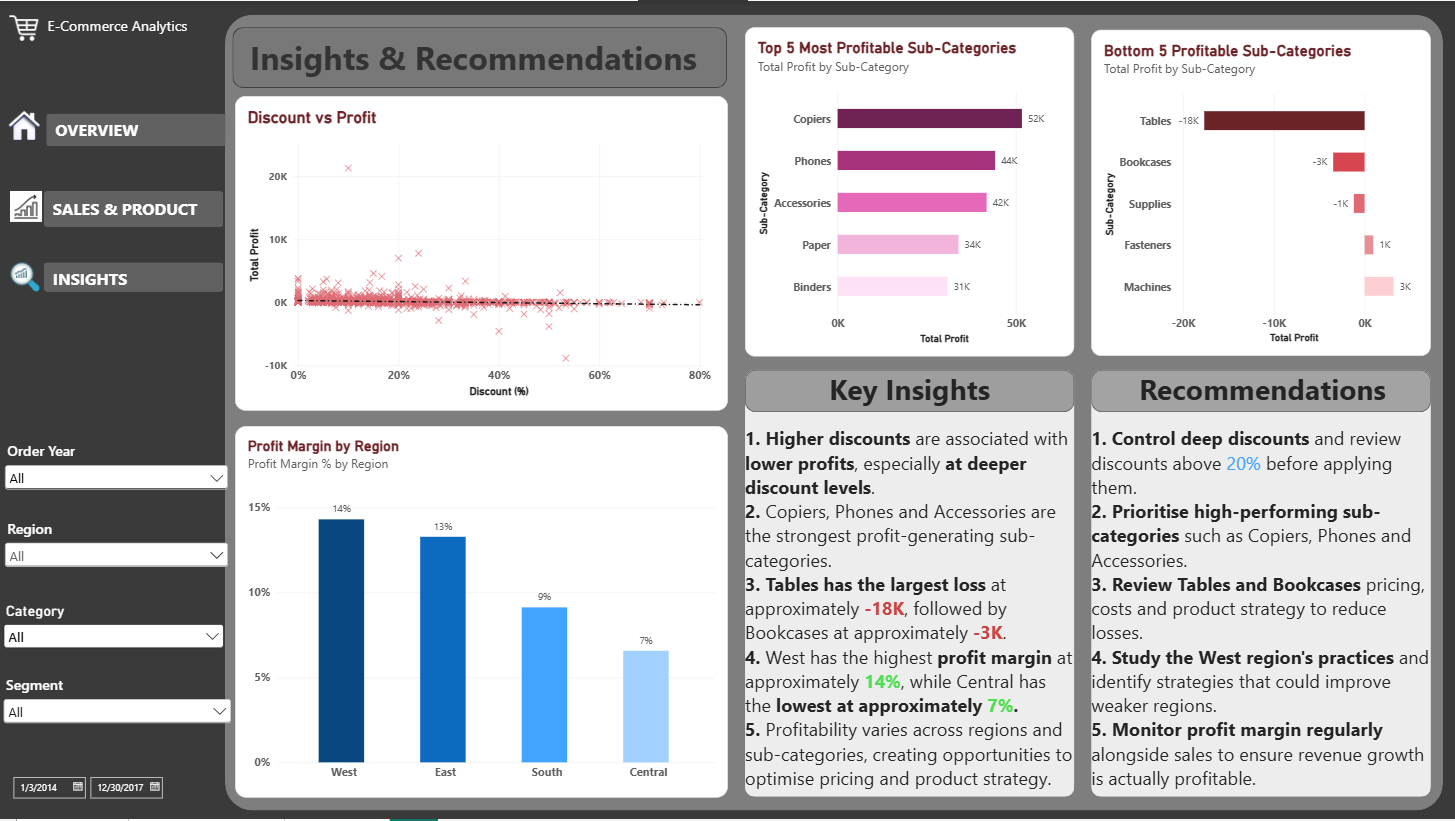

This screenshot's page, from the dashboard's own definition file:
{"tool":"powerbi","page":{"name":"Insights","canvas":[1920,1080],"ordinal":2},"visuals":[{"type":"shape","box":[296.4,17.9,1607.2,1050],"z":0},{"type":"image","box":[8,16,46.8,38.3],"z":1000},{"type":"image","box":[1.8,139.3,60.9,52.2],"z":2000},{"type":"actionButton","box":[60.7,148.2,237,43.5],"z":3000},{"type":"image","box":[12.5,250,42.6,40.4],"z":4000},{"type":"actionButton","box":[57.1,250,237,47.8],"z":5000},{"type":"image","box":[1.8,344.6,63,39.1],"z":6000},{"type":"actionButton","box":[57.1,344.6,237,39.1],"z":7000},{"type":"slicer","fields":{"Values":["Sheet1.Order Year"]},"box":[2.2,580.4,303.8,80.8],"z":8000},{"type":"slicer","fields":{"Values":["Sheet1.Region"]},"box":[2.2,682.6,303.8,78.8],"z":9000},{"type":"slicer","fields":{"Values":["Sheet1.Category"]},"box":[0,794,300,74],"z":10000},{"type":"slicer","fields":{"Values":["Sheet1.Segment"]},"box":[0,889.1,309.6,86.5],"z":11000},{"type":"slicer","fields":{"Values":["Sheet1.Order Date"]},"box":[10,1020,238,60],"z":12000},{"type":"textbox","box":[62.5,19.6,232.1,33.9],"z":13000},{"type":"scatterChart","title":"Discount vs Profit","fields":{"Category":["Sheet1.Product Name"],"X":["Sheet1.Average Discount %"],"Y":["Sheet1.Total Profit"]},"box":[310,125,650,415],"z":14000},{"type":"textbox","box":[330,45,720,80],"z":15000},{"type":"shape","box":[307.5,35,652.5,80],"z":16000},{"type":"clusteredBarChart","title":"Top 5 Most Profitable Sub-Categories","fields":{"Category":["Sheet1.Sub-Category"],"Y":["Sheet1.Total Profit"]},"box":[982.7,34.6,434.6,434.6],"z":17000},{"type":"clusteredBarChart","title":"Bottom 5 Profitable Sub-Categories","fields":{"Category":["Sheet1.Sub-Category"],"Y":["Sheet1.Total Profit"]},"box":[1440.4,38.5,448.1,430.8],"z":18000},{"type":"clusteredColumnChart","title":"Profit Margin by Region","fields":{"Category":["Sheet1.Region"],"Y":["Sheet1.Profit Margin %"]},"box":[310,560,650,490],"z":19000},{"type":"shape","box":[982.7,486.5,434.6,563.5],"z":20000},{"type":"shape","box":[982.7,486.5,434.6,55.8],"z":21000},{"type":"textbox","box":[1082.7,486.5,236.5,65.4],"z":22000},{"type":"shape","box":[1440.4,486.5,448.1,563.5],"z":23000},{"type":"shape","box":[1440.4,486.5,448.1,55.8],"z":24000},{"type":"textbox","box":[1490.4,486.5,350,57.7],"z":25000},{"type":"textbox","box":[982.9,560,434.3,490],"z":26000},{"type":"textbox","box":[1440,560,448.6,520],"z":27000}]}

Visuals, with their boxes in screenshot pixels (x1, y1, x2, y2):
shape: x1=229, y1=25, x2=1430, y2=809
image: x1=14, y1=23, x2=49, y2=52
image: x1=9, y1=115, x2=54, y2=154
actionButton: x1=53, y1=122, x2=230, y2=155
image: x1=17, y1=198, x2=49, y2=228
actionButton: x1=50, y1=198, x2=227, y2=234
image: x1=9, y1=269, x2=56, y2=298
actionButton: x1=50, y1=269, x2=227, y2=298
slicer - Sheet1.Order Year: x1=9, y1=445, x2=236, y2=506
slicer - Sheet1.Region: x1=9, y1=522, x2=236, y2=580
slicer - Sheet1.Category: x1=8, y1=605, x2=232, y2=660
slicer - Sheet1.Segment: x1=8, y1=676, x2=239, y2=740
slicer - Sheet1.Order Date: x1=15, y1=774, x2=193, y2=818
textbox: x1=54, y1=26, x2=228, y2=51
"Discount vs Profit" scatterChart: x1=239, y1=105, x2=725, y2=415
textbox: x1=254, y1=45, x2=792, y2=105
shape: x1=237, y1=38, x2=725, y2=97
"Top 5 Most Profitable Sub-Categories" clusteredBarChart: x1=742, y1=37, x2=1067, y2=362
"Bottom 5 Profitable Sub-Categories" clusteredBarChart: x1=1084, y1=40, x2=1419, y2=362
"Profit Margin by Region" clusteredColumnChart: x1=239, y1=430, x2=725, y2=796
shape: x1=742, y1=375, x2=1067, y2=796
shape: x1=742, y1=375, x2=1067, y2=417
textbox: x1=817, y1=375, x2=993, y2=424
shape: x1=1084, y1=375, x2=1419, y2=796
shape: x1=1084, y1=375, x2=1419, y2=417
textbox: x1=1121, y1=375, x2=1383, y2=418
textbox: x1=742, y1=430, x2=1067, y2=796
textbox: x1=1084, y1=430, x2=1419, y2=818
